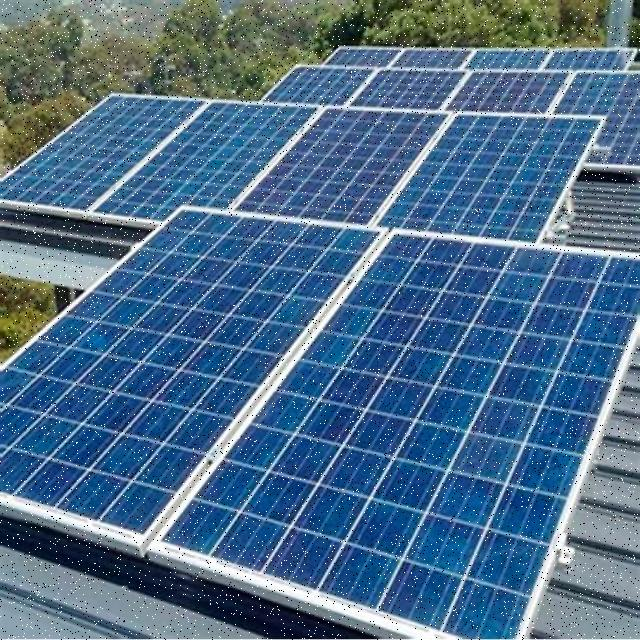clean: (2, 43, 639, 633)
